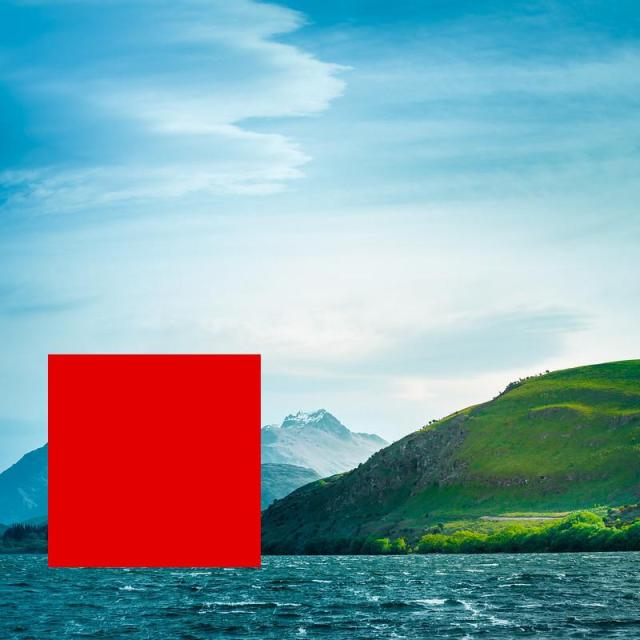RedSquare: (36, 346, 270, 572)
